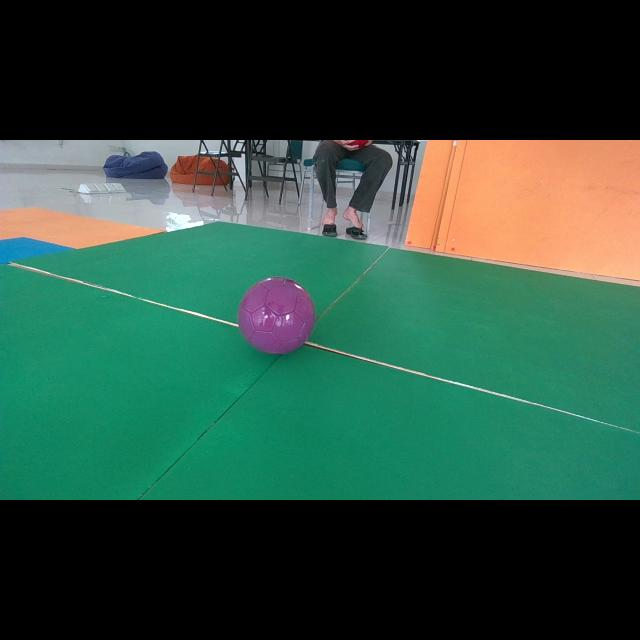P: (238, 276, 315, 354)
